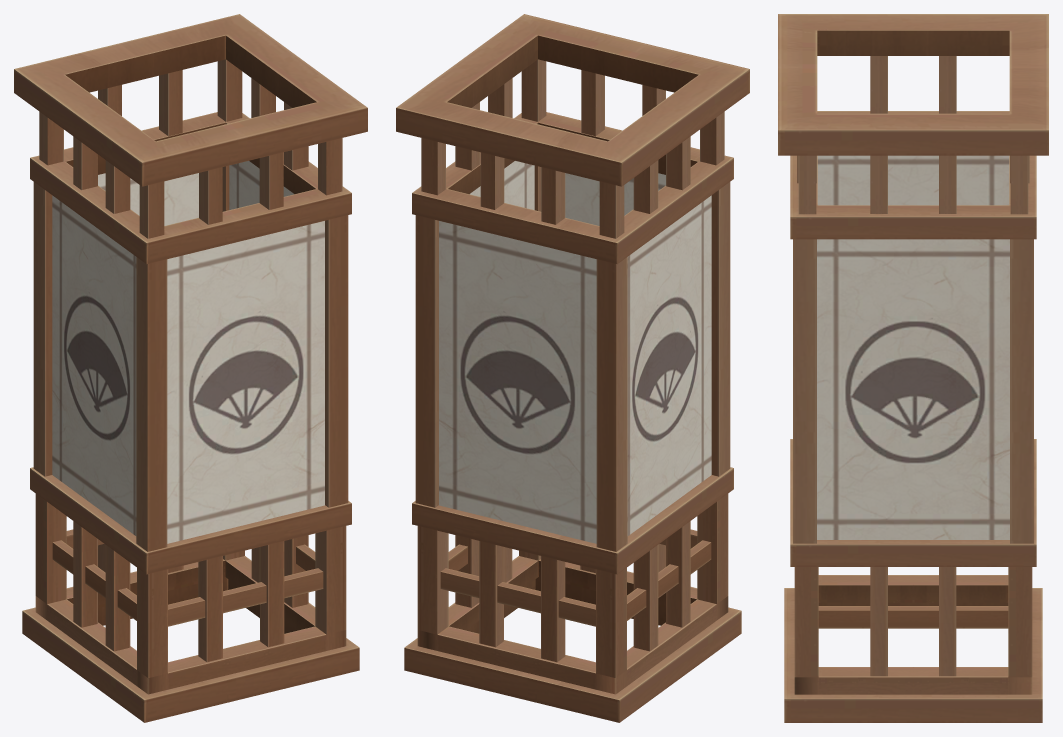
File: my_hotsprings_01_light_02.glb
3 views of the same model, side by side, from view 1: azimuth 30°, elevation 25°; view 2: azimuth 150°, elevation 25°; view 3: azimuth 270°, elevation 25° (orthographic). The views are drawn at different scales.
Visible parts, largest first — view 1: my_hotsprings_01_light_02; view 2: my_hotsprings_01_light_02; view 3: my_hotsprings_01_light_02.
Part boxes in pixels (bbox=[...]): my_hotsprings_01_light_02: bbox=[14, 14, 367, 722]; my_hotsprings_01_light_02: bbox=[396, 14, 749, 722]; my_hotsprings_01_light_02: bbox=[778, 14, 1048, 722].
Bounding box in the file's own units: 0.00252 × 0.00602 × 0.00248.
1 material, 1 textured.
